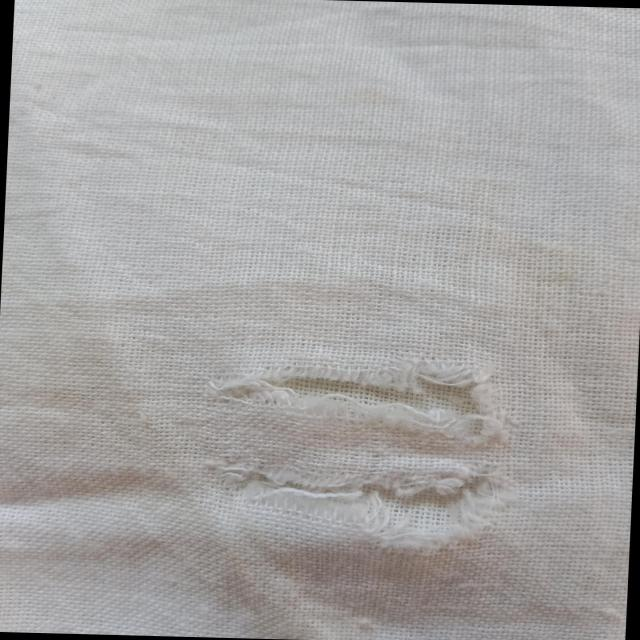cut: (192, 354, 511, 440), (190, 446, 510, 521)
